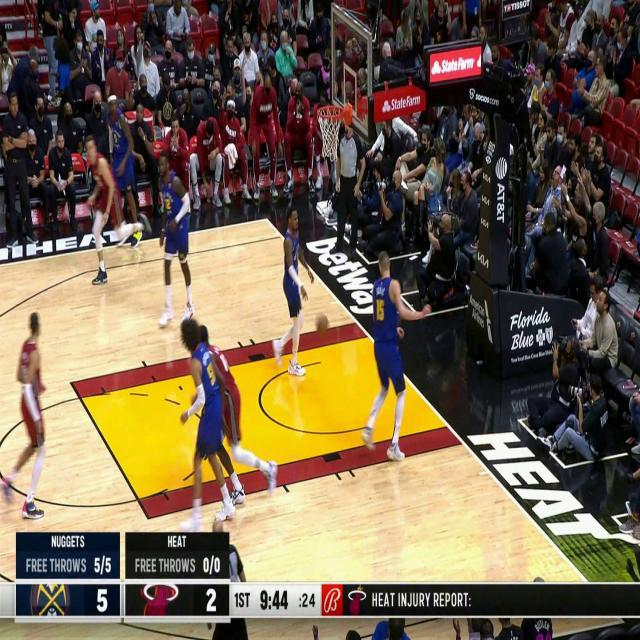rim: (316, 313, 328, 335)
